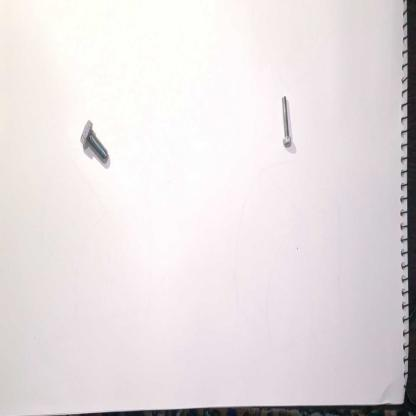Bolts: (78, 118, 113, 172), (276, 90, 295, 154)
